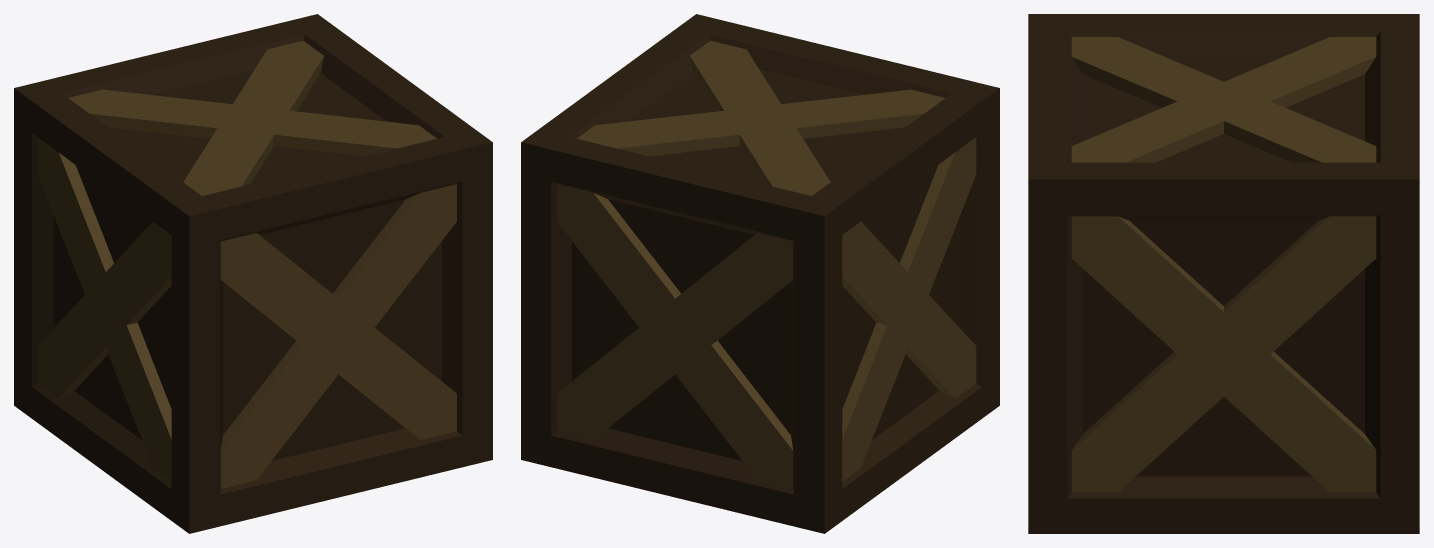
The model's file is CuboMarron.fbx.
3 views of the same model, side by side, from view 1: azimuth 30°, elevation 25°; view 2: azimuth 150°, elevation 25°; view 3: azimuth 270°, elevation 25° (orthographic). The views are drawn at different scales.
Parts seen in each view (by area): view 1: Cube; view 2: Cube; view 3: Cube.
Boxes of the visible parts, x1,y1,x2,y2 form: Cube: [14, 14, 492, 533]; Cube: [521, 14, 999, 533]; Cube: [1028, 14, 1419, 533].
Size of the model in its own units: 200 by 200 by 200.
